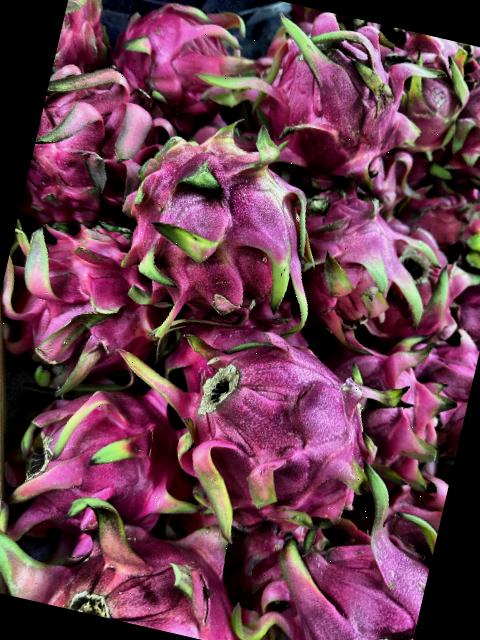buah-naga-belum-matang: (101, 114, 343, 333)
buah-naga-matang: (147, 314, 388, 542), (0, 473, 241, 640), (0, 196, 180, 396), (3, 374, 207, 546), (276, 172, 437, 356), (244, 9, 413, 183), (244, 498, 437, 640), (97, 0, 277, 129), (21, 64, 157, 232), (319, 348, 456, 499), (367, 224, 470, 346), (375, 48, 480, 165), (437, 61, 480, 194), (54, 0, 124, 70), (451, 172, 480, 272)
